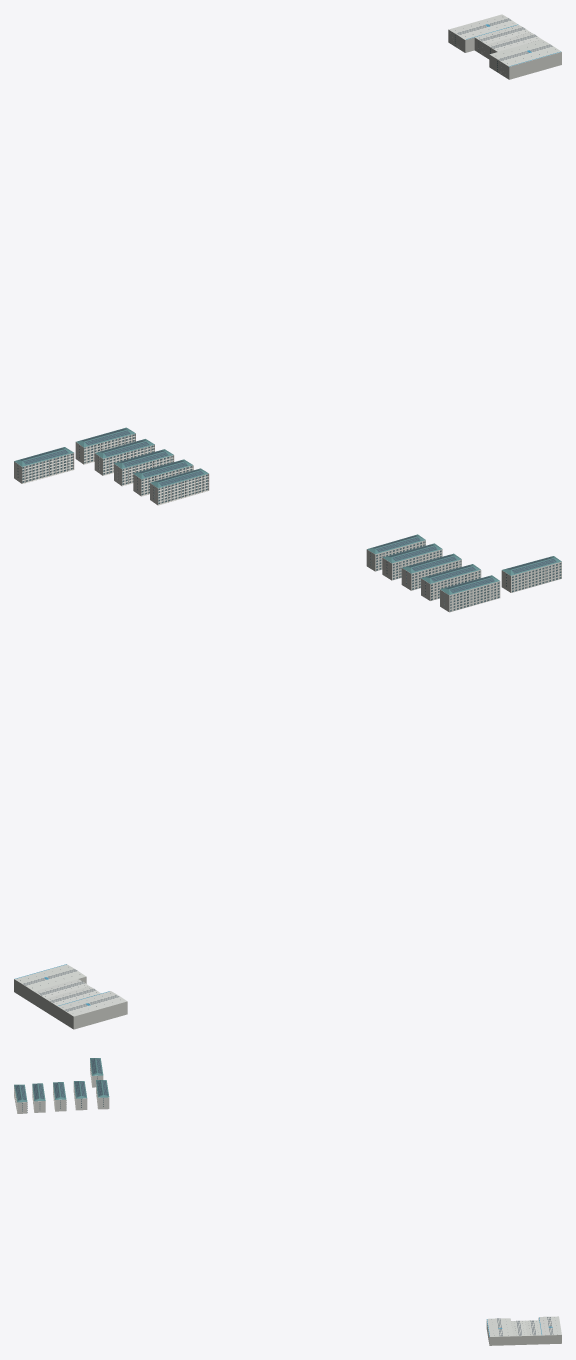
File: SEU_building_patch_v06.glb
3 renders of one model, top to bottom at view 1: azimuth 30°, elevation 25°; view 2: azimuth 210°, elevation 25°; view 3: azimuth 270°, elevation 25°, orthographic. The views are drawn at different scales.
Parts seen in each view (by area): view 1: SEU_B_OSMWAY_1056927514_V06__body, SEU_B_OSMWAY_1056927514_V06__roof_0, SEU_B_OSMWAY_1056927514_V06__roof_3, SEU_B_OSMWAY_1056927545__V05JY_room_core, SEU_B_OSMWAY_1056927551__V05JY_room_core; view 2: SEU_B_OSMWAY_1056927514_V06__body, SEU_B_OSMWAY_1056927514_V06__roof_0, SEU_B_OSMWAY_1056927546__V05JY_room_core, SEU_B_OSMWAY_1056927545__V05JY_room_core, SEU_B_OSMWAY_1056927514_V06__roof_3, SEU_B_OSMWAY_1056927547__V05JY_room_core; view 3: SEU_B_OSMWAY_1056927514_V06__body, SEU_B_OSMWAY_1056927514_V06__roof_0, SEU_B_OSMWAY_1056927514_V06__roof_3.
Part boxes in pixels (left/top/right/bottom): SEU_B_OSMWAY_1056927514_V06__body: left=448, top=29, right=561, bottom=79; SEU_B_OSMWAY_1056927514_V06__roof_0: left=490, top=39, right=561, bottom=66; SEU_B_OSMWAY_1056927514_V06__roof_3: left=449, top=14, right=518, bottom=39; SEU_B_OSMWAY_1056927545__V05JY_room_core: left=14, top=453, right=73, bottom=483; SEU_B_OSMWAY_1056927551__V05JY_room_core: left=150, top=474, right=208, bottom=504; SEU_B_OSMWAY_1056927514_V06__body: left=14, top=976, right=127, bottom=1029; SEU_B_OSMWAY_1056927514_V06__roof_0: left=14, top=964, right=85, bottom=991; SEU_B_OSMWAY_1056927546__V05JY_room_core: left=440, top=581, right=500, bottom=612; SEU_B_OSMWAY_1056927545__V05JY_room_core: left=502, top=561, right=561, bottom=592; SEU_B_OSMWAY_1056927514_V06__roof_3: left=57, top=991, right=126, bottom=1016; SEU_B_OSMWAY_1056927547__V05JY_room_core: left=421, top=570, right=481, bottom=600; SEU_B_OSMWAY_1056927514_V06__body: left=486, top=1318, right=561, bottom=1345; SEU_B_OSMWAY_1056927514_V06__roof_0: left=486, top=1318, right=513, bottom=1336; SEU_B_OSMWAY_1056927514_V06__roof_3: left=538, top=1316, right=561, bottom=1335.
Size of the model in its own units: 1001 by 21.9 by 839.
